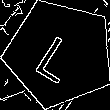L_NE: (32, 24, 87, 83)
